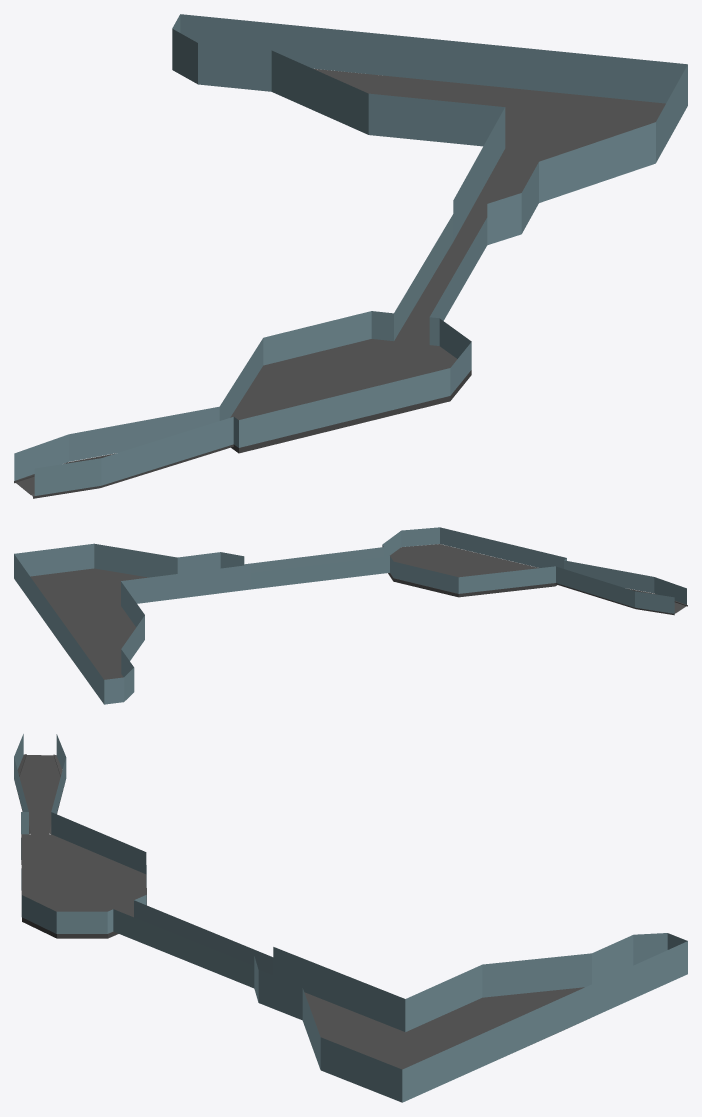
File: 2 areas.fbx
3 views of the same model, one above another, from view 1: azimuth 30°, elevation 25°; view 2: azimuth 150°, elevation 25°; view 3: azimuth 270°, elevation 25° (orthographic). The views are drawn at different scales.
Visible parts, largest first — view 1: wall_15, wall_12, polySurface78, polySurface66, wall_5, wall_9, wall_7, wall_4, wall_1 (×2), wall_2, wall_6, polySurface73 (+11 smaller); view 2: wall_12, wall_1 (×2), polySurface78, walls1, wall_15, polySurface66, wall_9, wall_8, polySurface74, walls, wall_2, wall_4 (+10 smaller); view 3: wall_15, wall_12, polySurface78, wall_1, wall_7, walls, wall_8, wall_5, bridge_low, walls1, polySurface74, wall_10 (+5 smaller).
Part boxes in pixels (box(x1,y1,x2,y2)): wall_15: box(180, 14, 687, 103); wall_12: box(313, 68, 665, 243); polySurface78: box(230, 339, 471, 453); polySurface66: box(239, 368, 450, 447); wall_5: box(368, 93, 504, 146); wall_9: box(539, 122, 655, 202); wall_7: box(271, 50, 368, 134); wall_4: box(101, 417, 233, 485); wall_1 (×2): box(14, 107, 505, 480); wall_2: box(69, 406, 219, 461); wall_6: box(198, 43, 271, 91); polySurface73: box(263, 311, 371, 365); wall_12: box(30, 568, 148, 679); wall_1 (×2): box(121, 565, 674, 613); polySurface78: box(388, 544, 556, 597); walls1: box(250, 556, 389, 589); wall_15: box(14, 554, 104, 704); polySurface66: box(440, 527, 566, 568); wall_9: box(94, 543, 177, 577); wall_8: box(14, 543, 94, 576); polySurface74: box(458, 566, 555, 593); walls: box(244, 547, 383, 572); wall_2: box(556, 566, 634, 607); wall_4: box(564, 560, 654, 593); wall_15: box(402, 941, 687, 1102); wall_12: box(304, 987, 589, 1069); polySurface78: box(21, 834, 146, 938); wall_1: box(273, 947, 405, 1031); wall_7: box(482, 953, 591, 997); walls: box(113, 909, 254, 988); wall_8: box(320, 1037, 402, 1102); wall_5: box(405, 965, 482, 1031); bridge_low: box(16, 754, 64, 834); walls1: box(134, 900, 273, 975); polySurface74: box(51, 812, 146, 873); wall_10: box(258, 970, 302, 1020).
Bounding box in the file's own units: 17027 × 862 × 13925.
